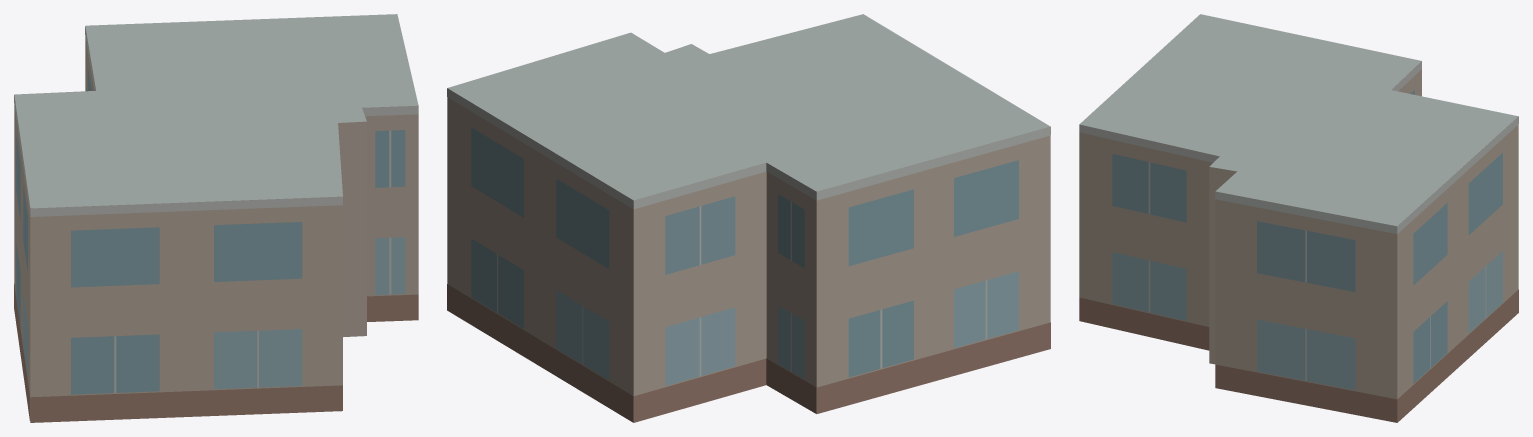
File: survey-upis-32916663.glb
3 renders of one model, left to right at view 1: azimuth 30°, elevation 25°; view 2: azimuth 150°, elevation 25°; view 3: azimuth 270°, elevation 25°, orthographic. The views are drawn at different scales.
Visible parts, largest first — view 1: survey-upis-32916663.tmp; view 2: survey-upis-32916663.tmp; view 3: survey-upis-32916663.tmp.
Part boxes in pixels (x1,y1,x2,y2): survey-upis-32916663.tmp: (14,14,418,422); survey-upis-32916663.tmp: (447,14,1050,422); survey-upis-32916663.tmp: (1079,14,1518,422).
Size of the model in its own units: 14.14 by 6.1 by 12.37.
